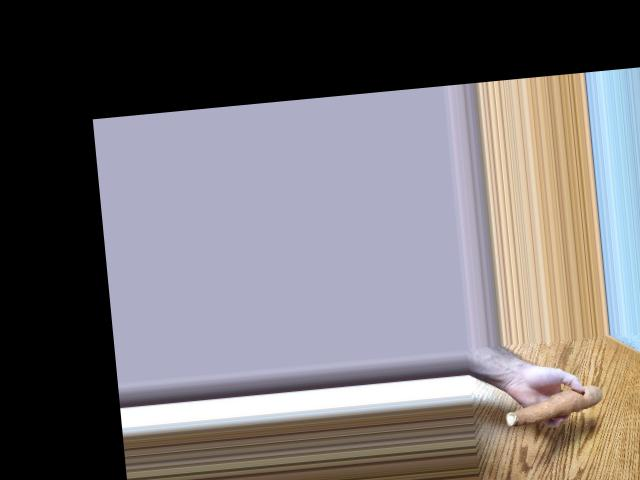sweet_potato: (500, 390, 609, 425)
